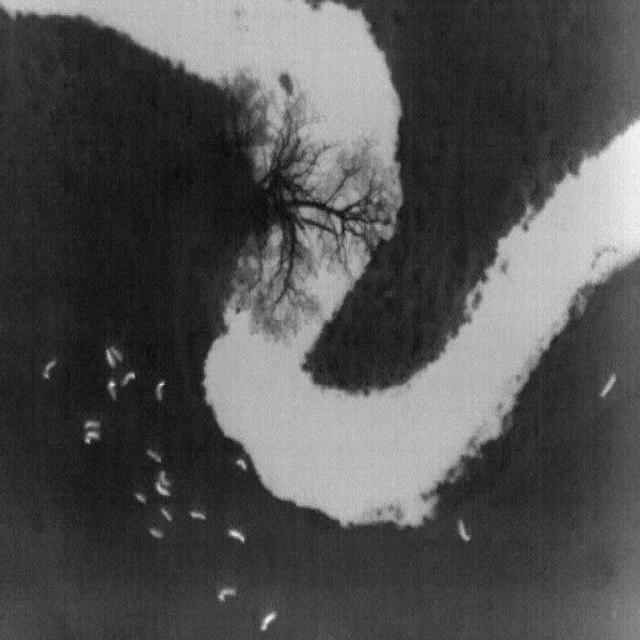deer: (259, 609, 279, 632), (600, 373, 618, 398), (456, 519, 472, 543), (216, 587, 238, 603), (227, 528, 245, 543), (42, 360, 56, 379), (104, 349, 117, 368), (154, 481, 170, 496), (106, 380, 118, 400), (84, 430, 101, 444), (157, 470, 170, 488), (155, 381, 166, 402), (120, 372, 136, 386), (110, 346, 123, 362), (84, 418, 102, 429), (146, 449, 161, 462), (148, 528, 165, 539), (160, 508, 173, 522), (190, 510, 206, 520), (235, 458, 248, 470), (134, 492, 146, 502)
